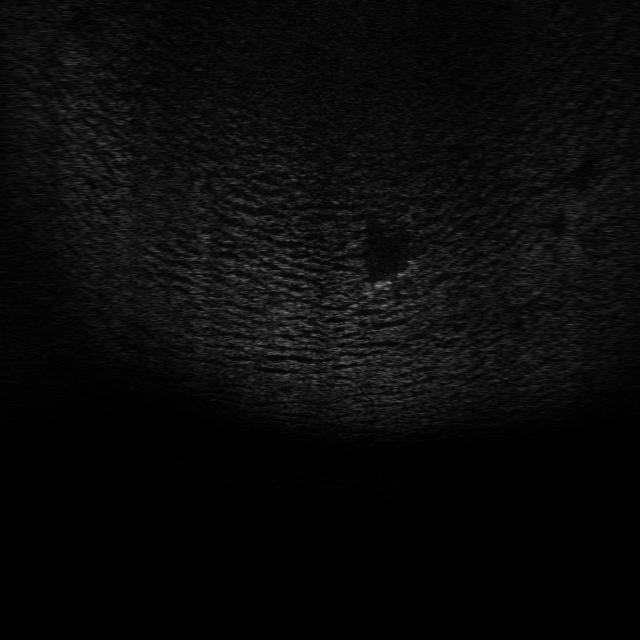plane: (357, 258, 421, 304)
